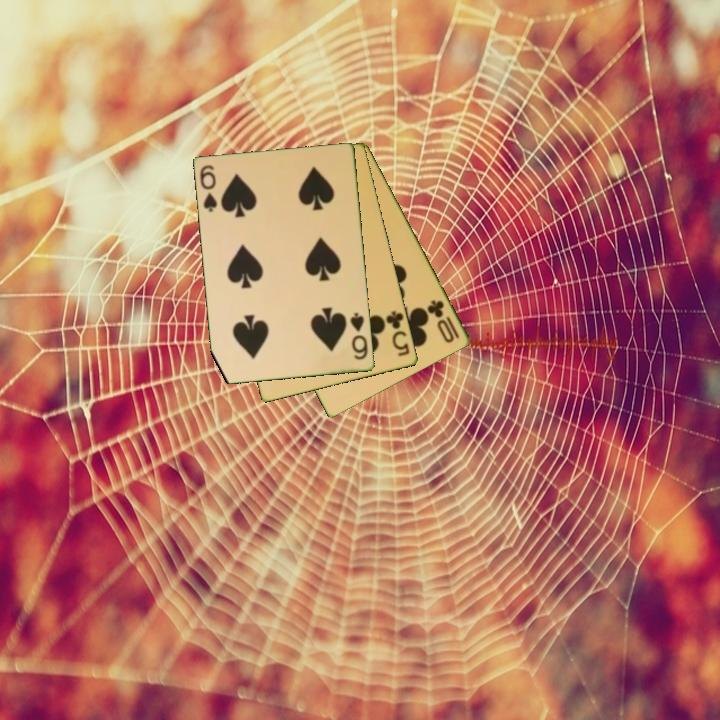10c: (424, 296, 463, 346)
5c: (383, 307, 413, 359)
6s: (347, 310, 371, 363), (197, 161, 220, 215)
